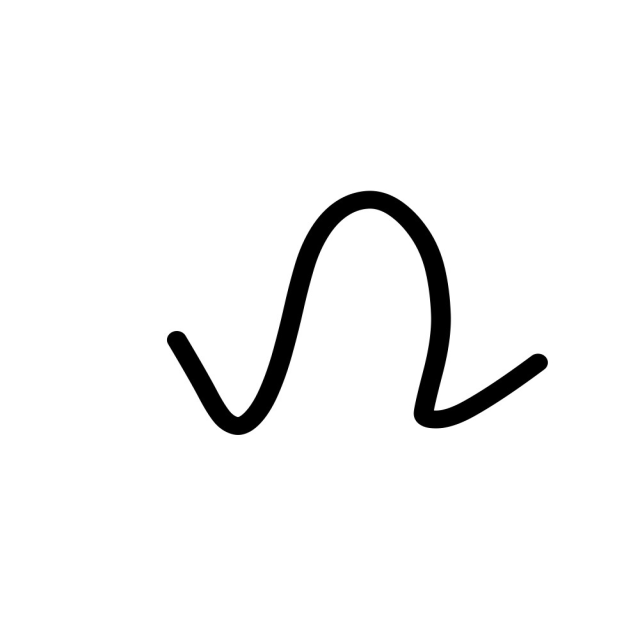ohms: (137, 88, 606, 517)
